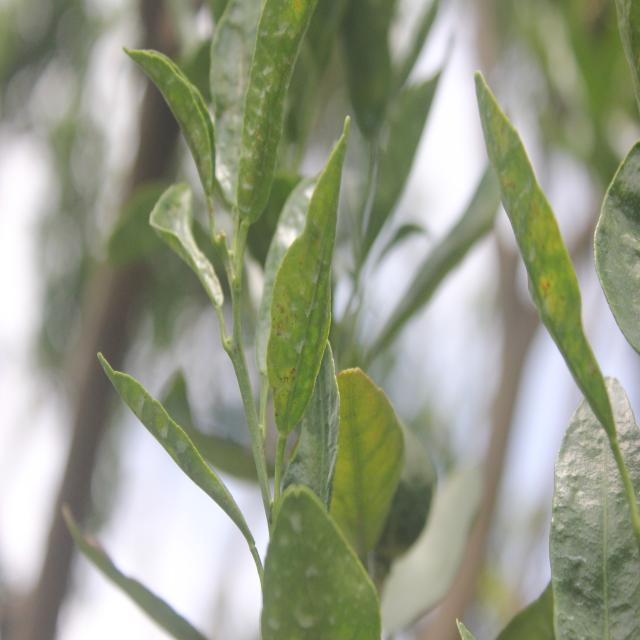canker: (482, 102, 591, 396), (266, 252, 332, 417)
